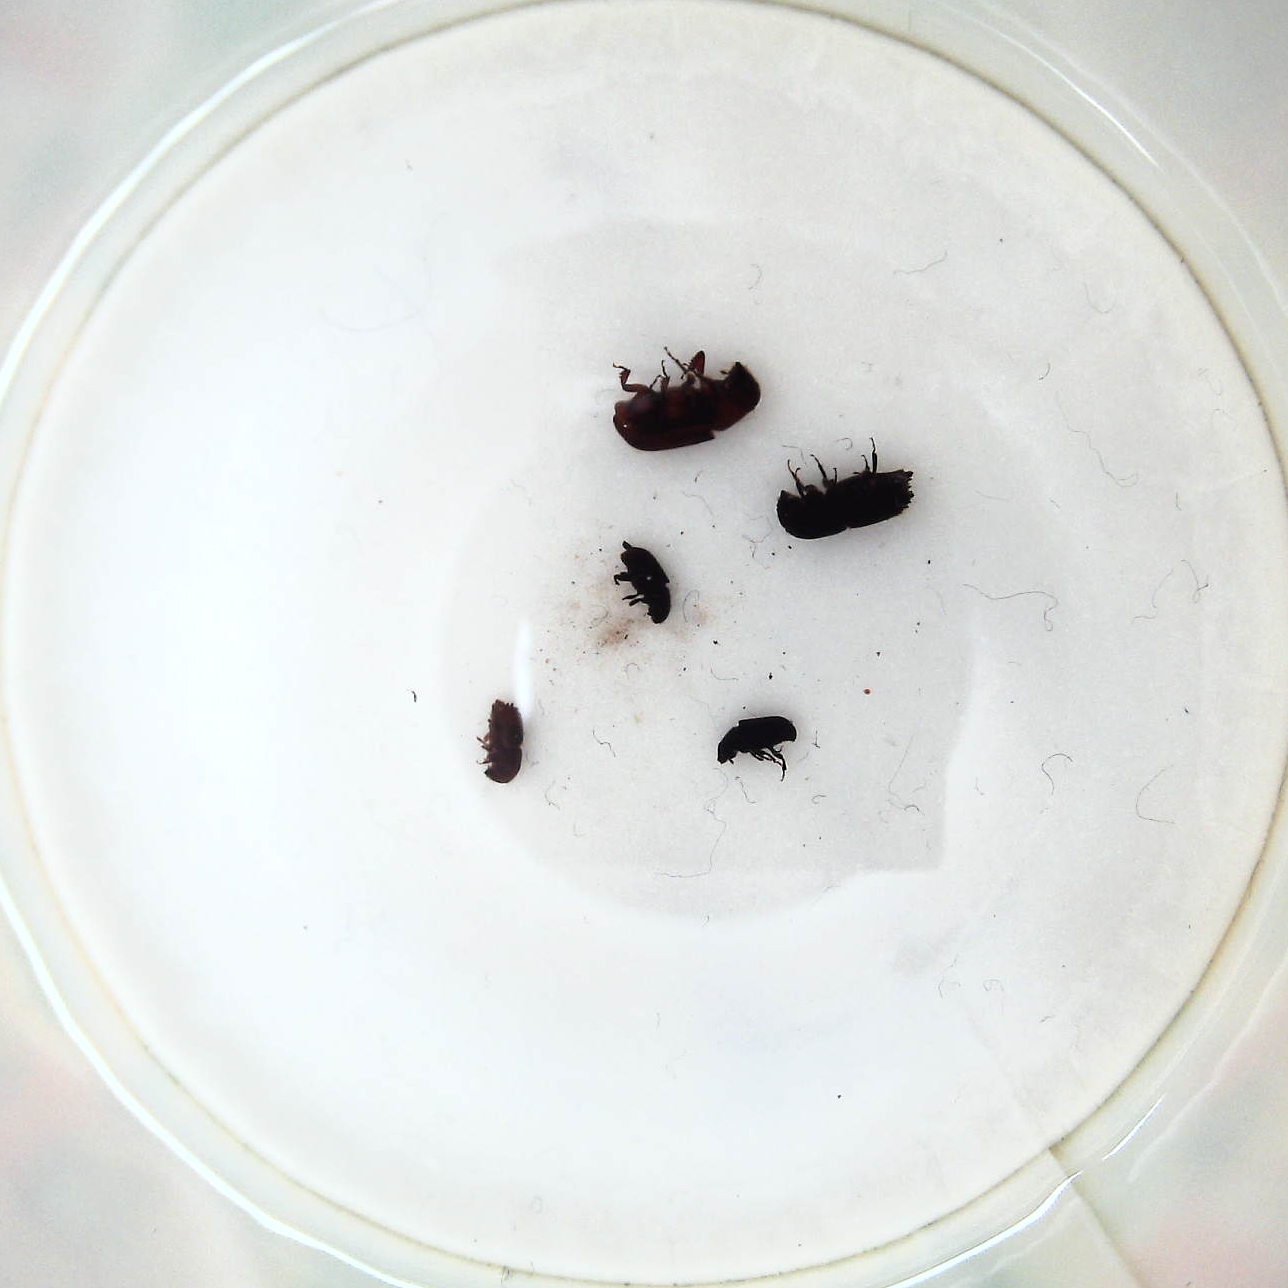Boerner: (773, 443, 922, 545)
Leconte: (607, 344, 773, 458)
armandi: (610, 541, 678, 627)
coleoptera: (712, 716, 800, 784)
linnaeus: (475, 694, 532, 787)
